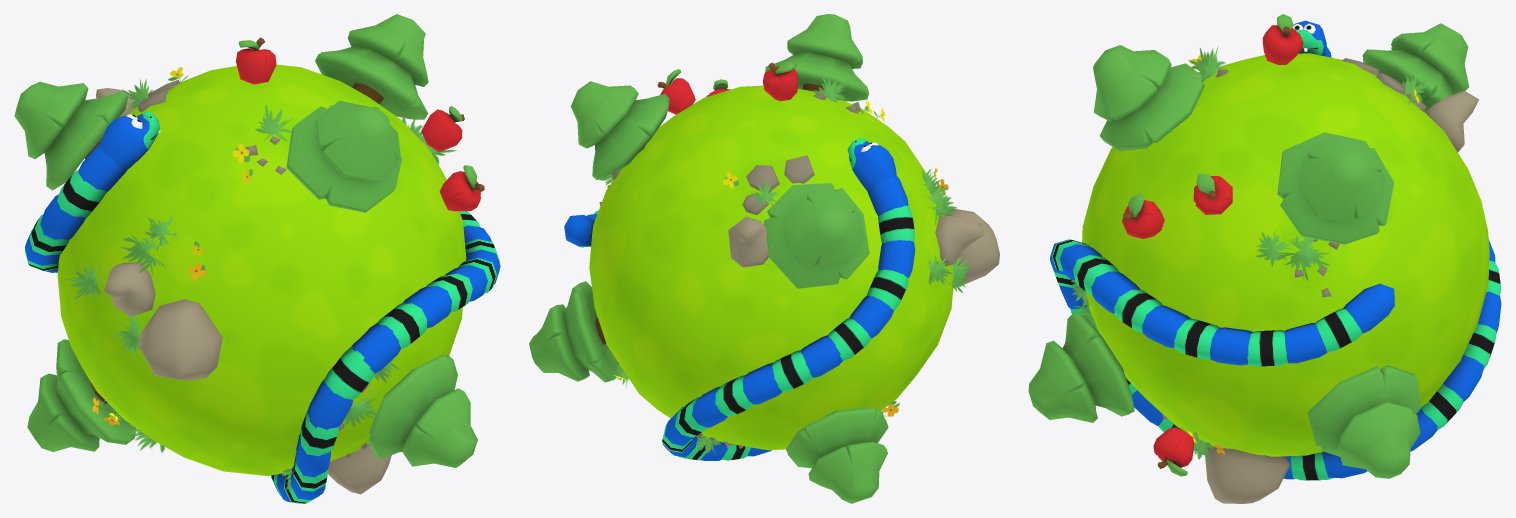
The picture shows the model from 3 angles, left to right: view 1: azimuth 30°, elevation 25°; view 2: azimuth 150°, elevation 25°; view 3: azimuth 270°, elevation 25°; orthographic projection. The views are drawn at different scales.
Parts seen in each view (by area): view 1: node_Planet_Snake_-122508_36, node_TreeFir_A_-121970_17, node_TreeFir_A_-122306_33, node_TreeFir_A_-121892_24, node_TreeFir_A_-122246_16, node_TreeFir_A_-122060_22, node_Combined 0 Mobile/Diffuse Rim Cutout 2 Sides Unlit.ODCO, node_Rock_B_-122590_21, node_Head_-123054_77, node_Rock_A_-121940_14, node_Rock_B_-122728_23, node_Body_B_-135304_104 (+16 smaller); view 2: node_Planet_Snake_-122508_36, node_TreeFir_A_-122246_16, node_TreeFir_A_-122060_22, node_TreeFir_A_-121892_24, node_TreeFir_A_-122468_34, node_TreeFir_A_-121970_17, node_Combined 0 Mobile/Diffuse Rim Cutout 2 Sides Unlit.ODCO, node_Combined 0 Mobile/Diffuse Rim.ODCObj_67760_3, node_Rock_B_-122590_21, node_Head_-123054_77, node_Rock_A_-122336_18, node_Rock_A_-121940_14 (+15 smaller); view 3: node_Planet_Snake_-122508_36, node_TreeFir_A_-121892_24, node_TreeFir_A_-122468_34, node_TreeFir_A_-121970_17, node_TreeFir_A_-122306_33, node_TreeFir_A_-122246_16, node_Rock_B_-122728_23, node_Combined 0 Mobile/Diffuse Rim Cutout 2 Sides Unlit.ODCO, node_Rock_A_-122336_18, node_Tail_-123246_27, node_Apple_-123352_30, node_Apple_-123424_88 (+22 smaller).
Part boxes in pixels (left/top/right/bottom): node_Planet_Snake_-122508_36: left=57, top=64, right=466, bottom=475; node_TreeFir_A_-121970_17: left=286, top=100, right=401, bottom=212; node_TreeFir_A_-122306_33: left=368, top=354, right=477, bottom=467; node_TreeFir_A_-121892_24: left=315, top=14, right=428, bottom=119; node_TreeFir_A_-122246_16: left=14, top=81, right=128, bottom=190; node_TreeFir_A_-122060_22: left=27, top=339, right=136, bottom=451; node_Combined 0 Mobile/Diffuse Rim Cutout 2 Sides Unlit.ODCO: left=66, top=67, right=456, bottom=490; node_Rock_B_-122590_21: left=138, top=299, right=222, bottom=380; node_Head_-123054_77: left=100, top=111, right=160, bottom=169; node_Rock_A_-121940_14: left=104, top=262, right=155, bottom=316; node_Rock_B_-122728_23: left=327, top=443, right=391, bottom=494; node_Body_B_-135304_104: left=324, top=346, right=374, bottom=399; node_Planet_Snake_-122508_36: left=589, top=85, right=953, bottom=450; node_TreeFir_A_-122246_16: left=763, top=183, right=869, bottom=288; node_TreeFir_A_-122060_22: left=786, top=407, right=888, bottom=503; node_TreeFir_A_-121892_24: left=570, top=81, right=669, bottom=179; node_TreeFir_A_-122468_34: left=529, top=281, right=619, bottom=382; node_TreeFir_A_-121970_17: left=765, top=14, right=868, bottom=101; node_Combined 0 Mobile/Diffuse Rim Cutout 2 Sides Unlit.ODCO: left=601, top=75, right=972, bottom=454; node_Combined 0 Mobile/Diffuse Rim.ODCObj_67760_3: left=599, top=91, right=860, bottom=448; node_Rock_B_-122590_21: left=947, top=208, right=999, bottom=286; node_Head_-123054_77: left=847, top=137, right=896, bottom=190; node_Rock_A_-122336_18: left=728, top=216, right=768, bottom=267; node_Rock_A_-121940_14: left=935, top=216, right=984, bottom=266; node_Planet_Snake_-122508_36: left=1082, top=53, right=1489, bottom=456; node_TreeFir_A_-121892_24: left=1277, top=132, right=1394, bottom=244; node_TreeFir_A_-122468_34: left=1307, top=365, right=1421, bottom=478; node_TreeFir_A_-121970_17: left=1093, top=45, right=1204, bottom=151; node_TreeFir_A_-122306_33: left=1028, top=312, right=1134, bottom=422; node_TreeFir_A_-122246_16: left=1362, top=23, right=1469, bottom=111; node_Rock_B_-122728_23: left=1205, top=445, right=1290, bottom=503; node_Combined 0 Mobile/Diffuse Rim Cutout 2 Sides Unlit.ODCO: left=1071, top=46, right=1429, bottom=462; node_Rock_A_-122336_18: left=1425, top=90, right=1478, bottom=152; node_Tail_-123246_27: left=1343, top=283, right=1394, bottom=333; node_Apple_-123352_30: left=1262, top=14, right=1303, bottom=64; node_Apple_-123424_88: left=1153, top=427, right=1194, bottom=476.
Size of the model in its own units: 14.21 by 14.68 by 14.05.
Materials: 8 (8 with a texture image).
